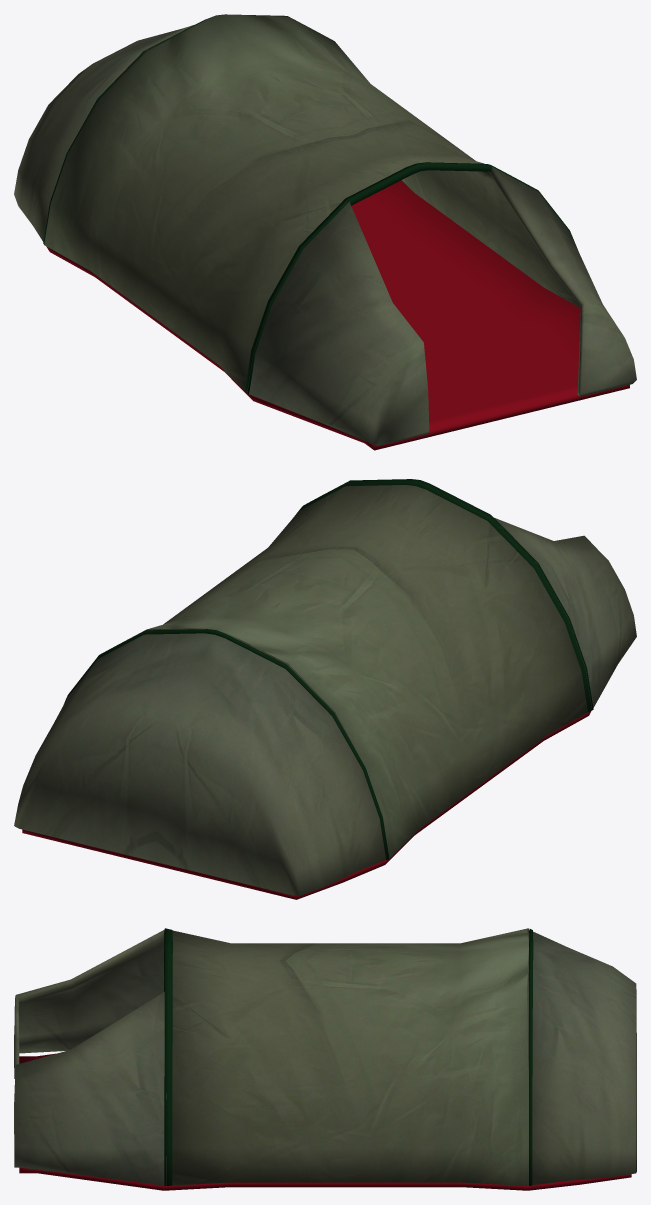
The model's file is teltta.fbx.
3 renders of one model, top to bottom at view 1: azimuth 30°, elevation 25°; view 2: azimuth 150°, elevation 25°; view 3: azimuth 270°, elevation 25°, orthographic. The views are drawn at different scales.
Visible parts, largest first — view 1: Plane, Plane.001, Plane.002; view 2: Plane, Plane.002, Plane.001; view 3: Plane, Plane.001, Plane.002.
Boxes of the visible parts, bbox=[...] form: Plane: bbox=[14, 14, 636, 446]; Plane.001: bbox=[46, 180, 629, 450]; Plane.002: bbox=[43, 14, 577, 394]; Plane: bbox=[14, 485, 636, 895]; Plane.002: bbox=[64, 479, 593, 859]; Plane.001: bbox=[22, 711, 591, 899]; Plane: bbox=[14, 928, 636, 1185]; Plane.001: bbox=[19, 1053, 631, 1190]; Plane.002: bbox=[164, 928, 533, 1185].
Size of the model in its own units: 206 by 111 by 360.
